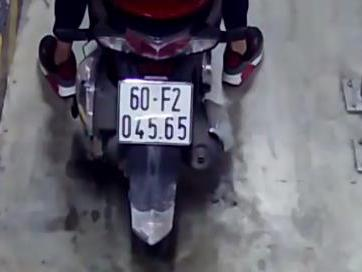num_plate: (118, 78, 195, 149)
